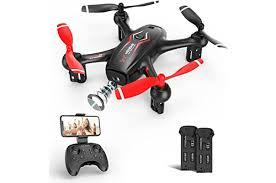drone: (43, 0, 230, 122)
